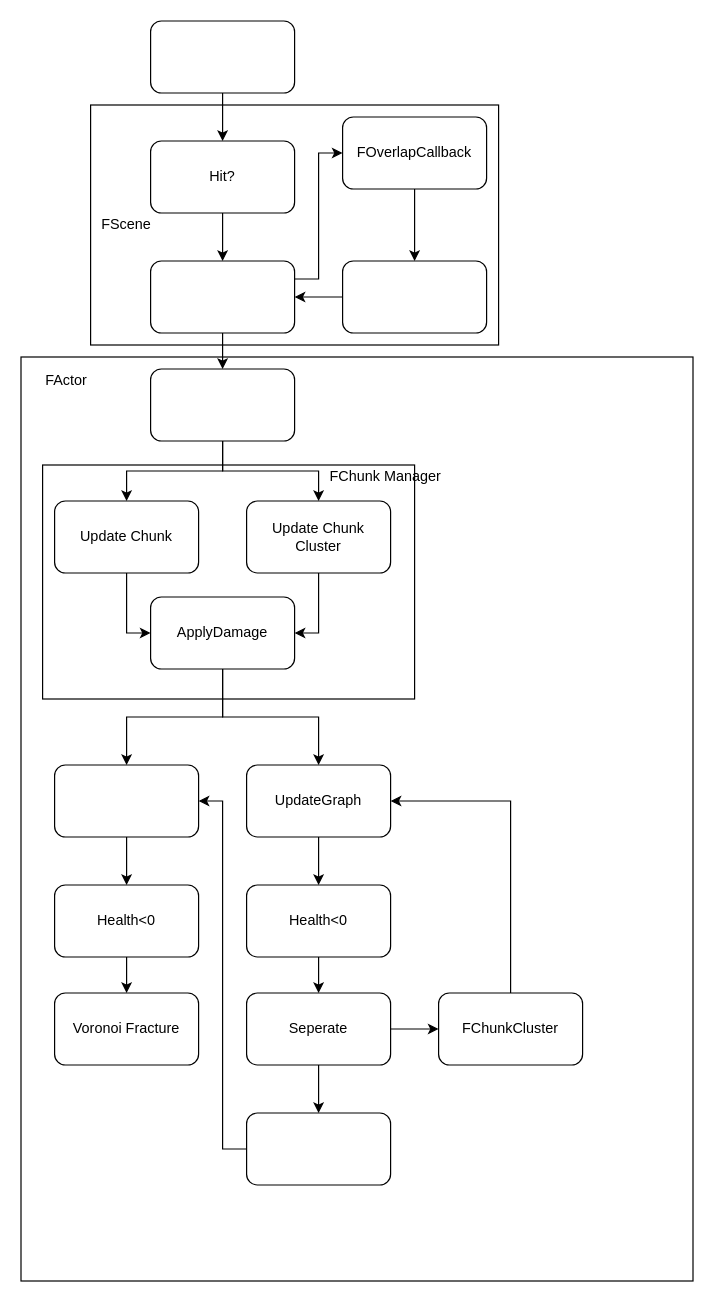
Some shapes in this 714 by 1302 pixel diagram are drawn without their labels. The shapes that lost their labels are listed below. From the top down, each one's centre as x and y in pixels, then its label:
point 222,56: Raycast
point 222,296: FDamage
point 414,296: FChunk, FChunkCluster
point 222,404: FActor Update
point 126,800: UpdateHealth
point 318,1148: FChunk
